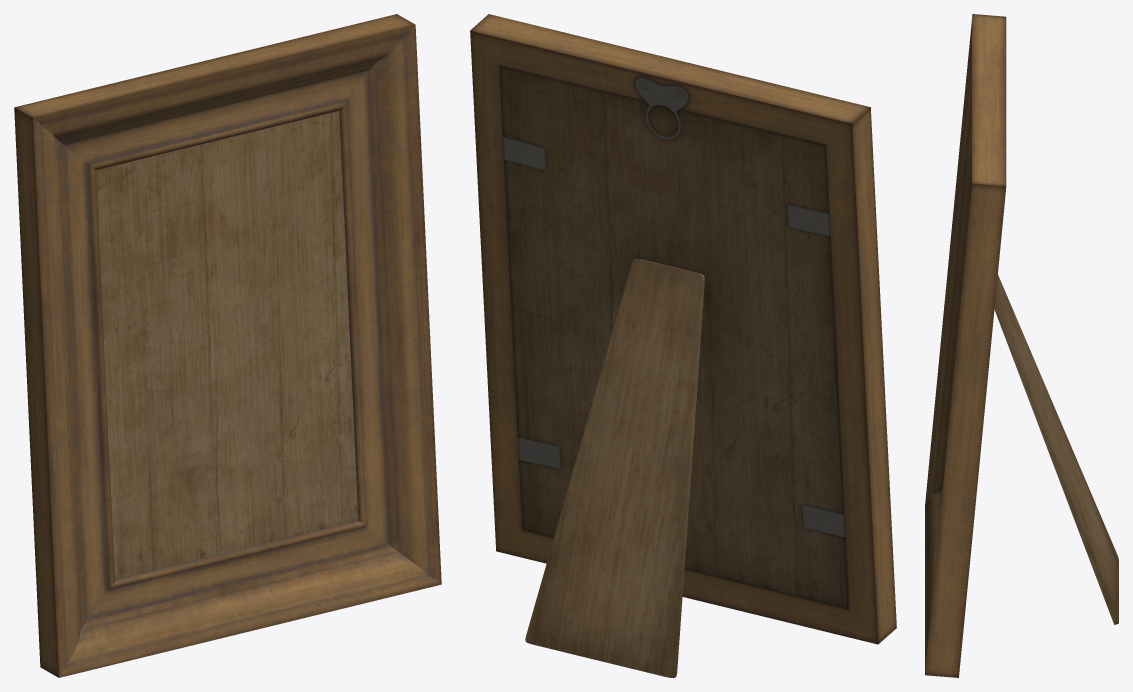
The model's file is SM_frame_01.fbx.
3 views of the same model, side by side, from view 1: azimuth 30°, elevation 25°; view 2: azimuth 150°, elevation 25°; view 3: azimuth 270°, elevation 25° (orthographic). The views are drawn at different scales.
Visible parts, largest first — view 1: SM_frame_01; view 2: SM_frame_01; view 3: SM_frame_01.
Part boxes in pixels (left/top/right/bottom): SM_frame_01: left=14, top=14, right=441, bottom=677; SM_frame_01: left=470, top=14, right=896, bottom=677; SM_frame_01: left=925, top=14, right=1118, bottom=677.
Size of the model in its own units: 15.81 by 21.46 by 7.63.
Materials: 1 (1 with a texture image).
